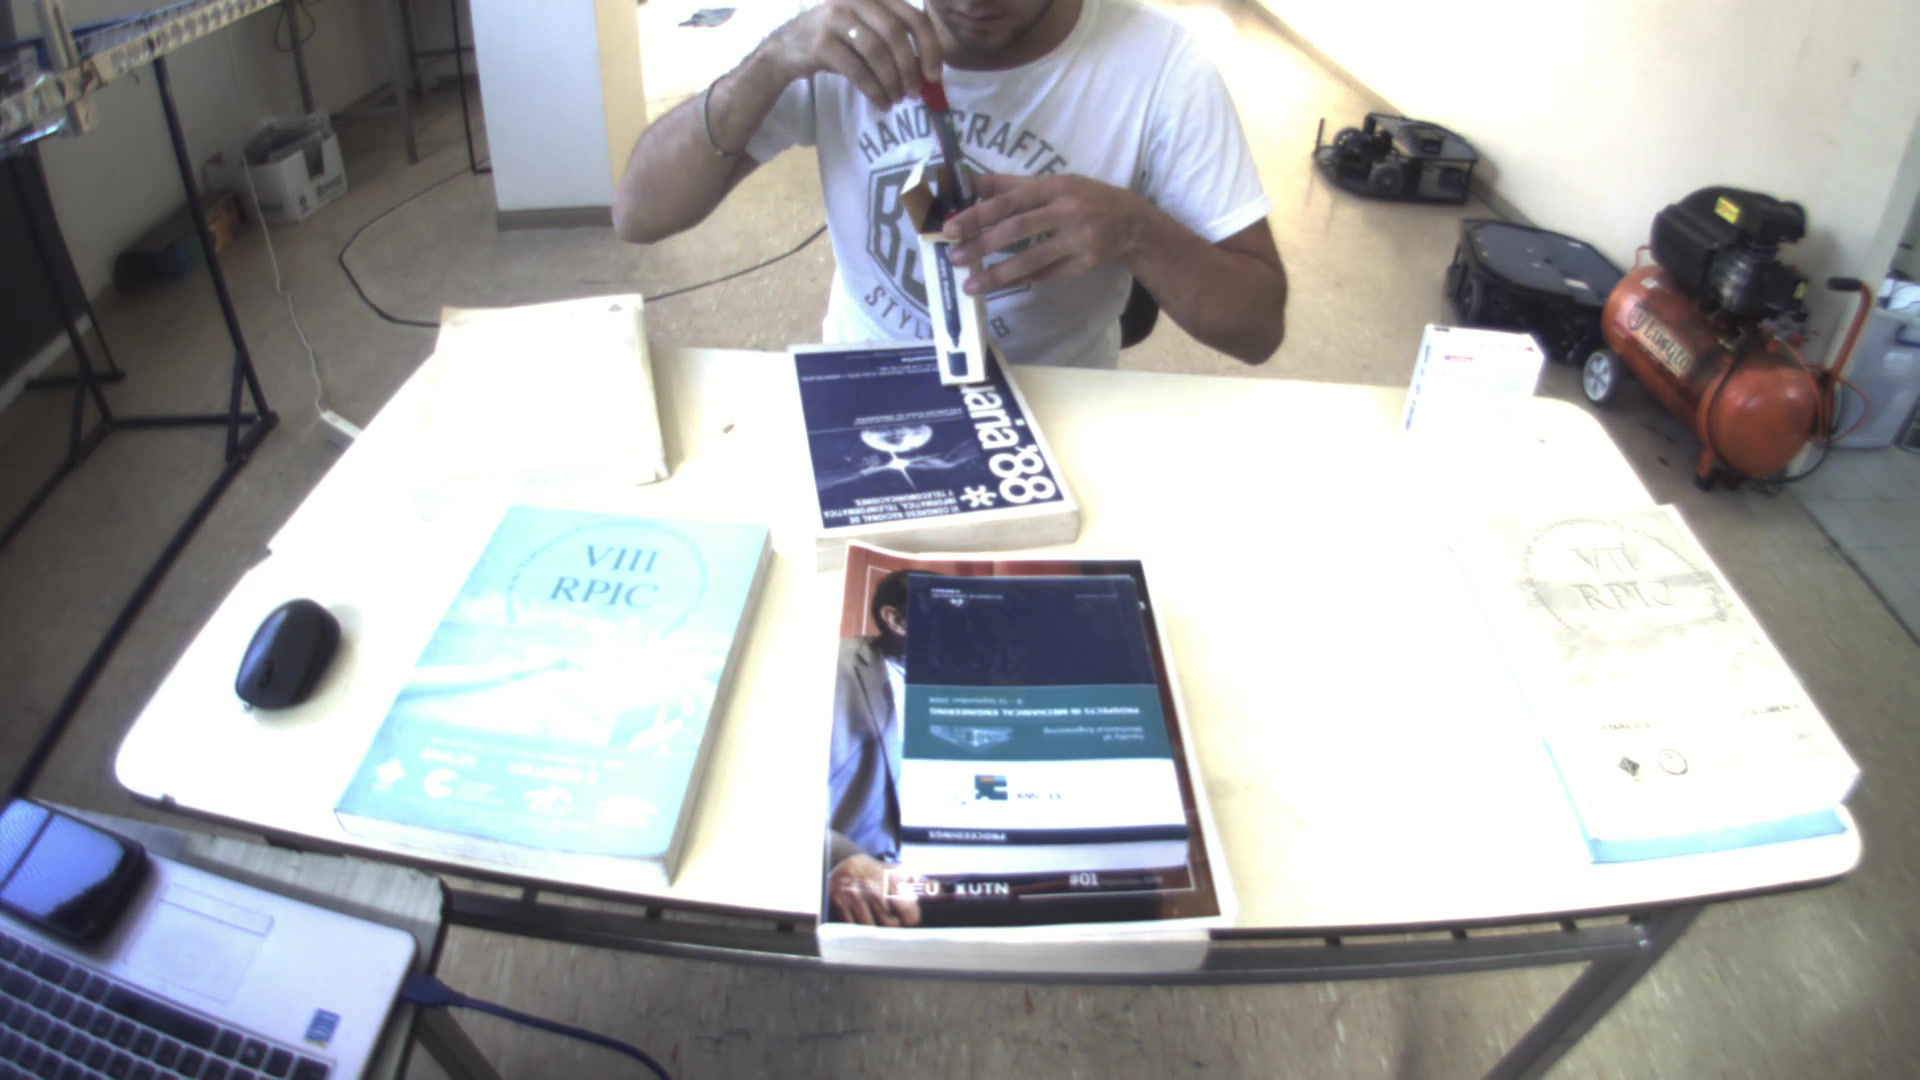hand: (928, 166, 1176, 313), (781, 4, 955, 109)
